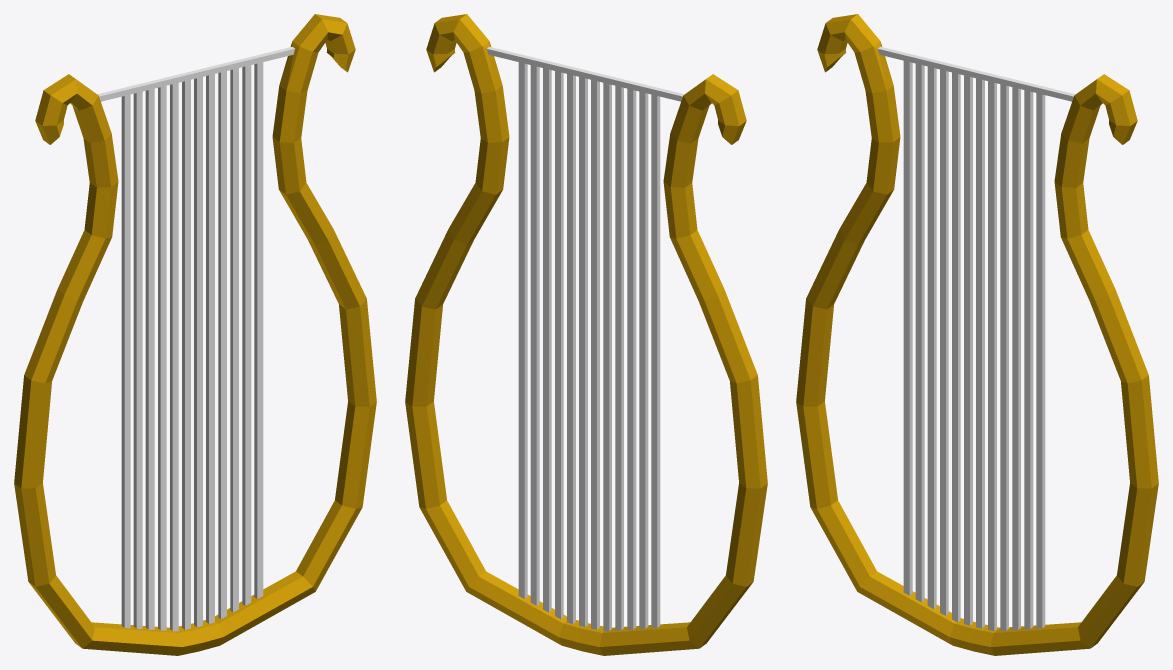
The model's file is Harp.fbx.
3 views of the same model, side by side, from view 1: azimuth 30°, elevation 25°; view 2: azimuth 150°, elevation 25°; view 3: azimuth 330°, elevation 25° (orthographic).
Visible parts, largest first — view 1: NurbsCurve; view 2: NurbsCurve; view 3: NurbsCurve.
Part boxes in pixels (left/top/right/bottom): NurbsCurve: left=14, top=14, right=376, bottom=655; NurbsCurve: left=405, top=14, right=767, bottom=655; NurbsCurve: left=796, top=14, right=1158, bottom=655.
Size of the model in its own units: 22.73 by 36.79 by 1.59.
